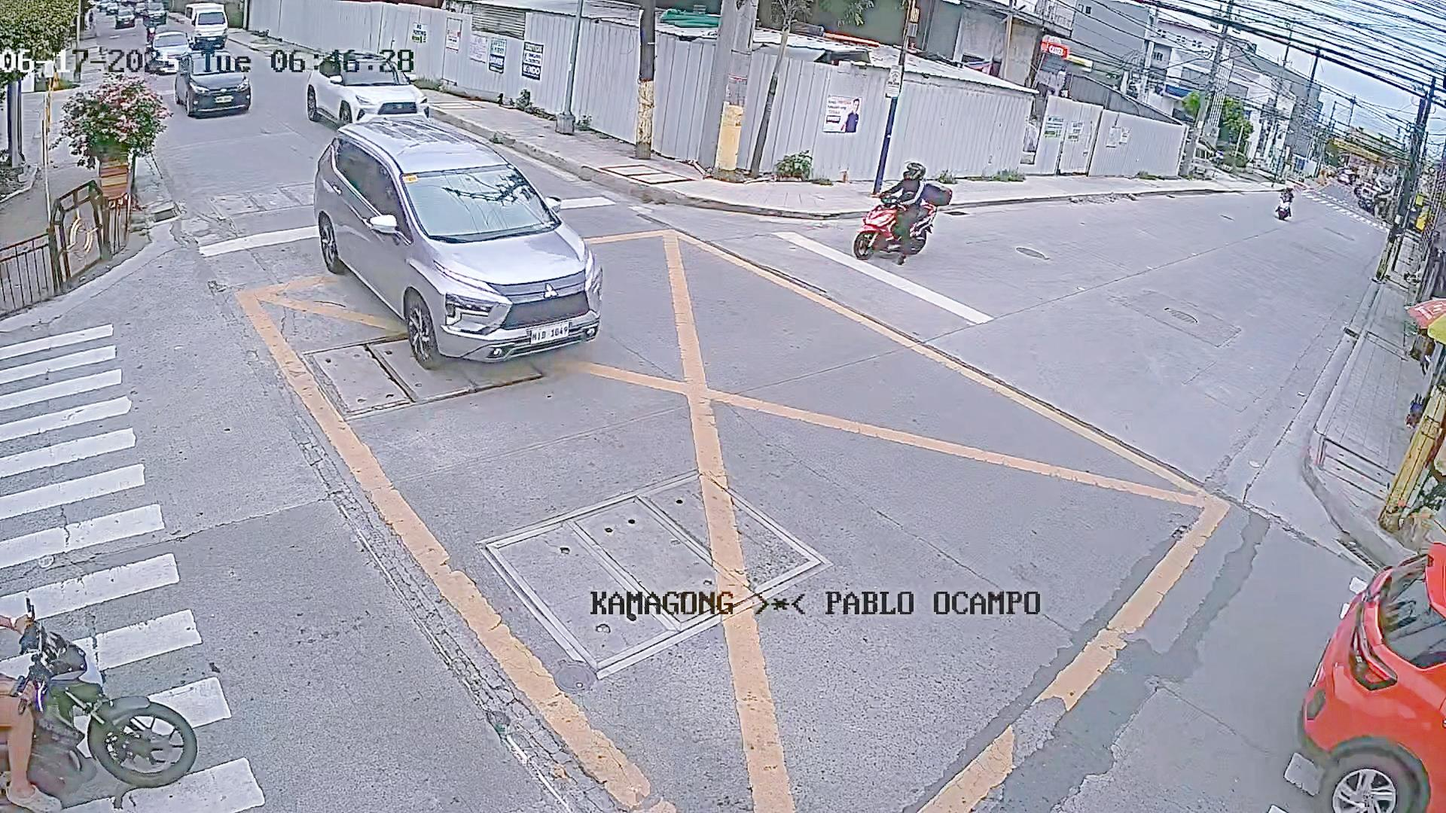Car: (287, 104, 670, 378), (1244, 491, 1446, 813), (289, 56, 444, 117)
Motor: (840, 151, 978, 265)
